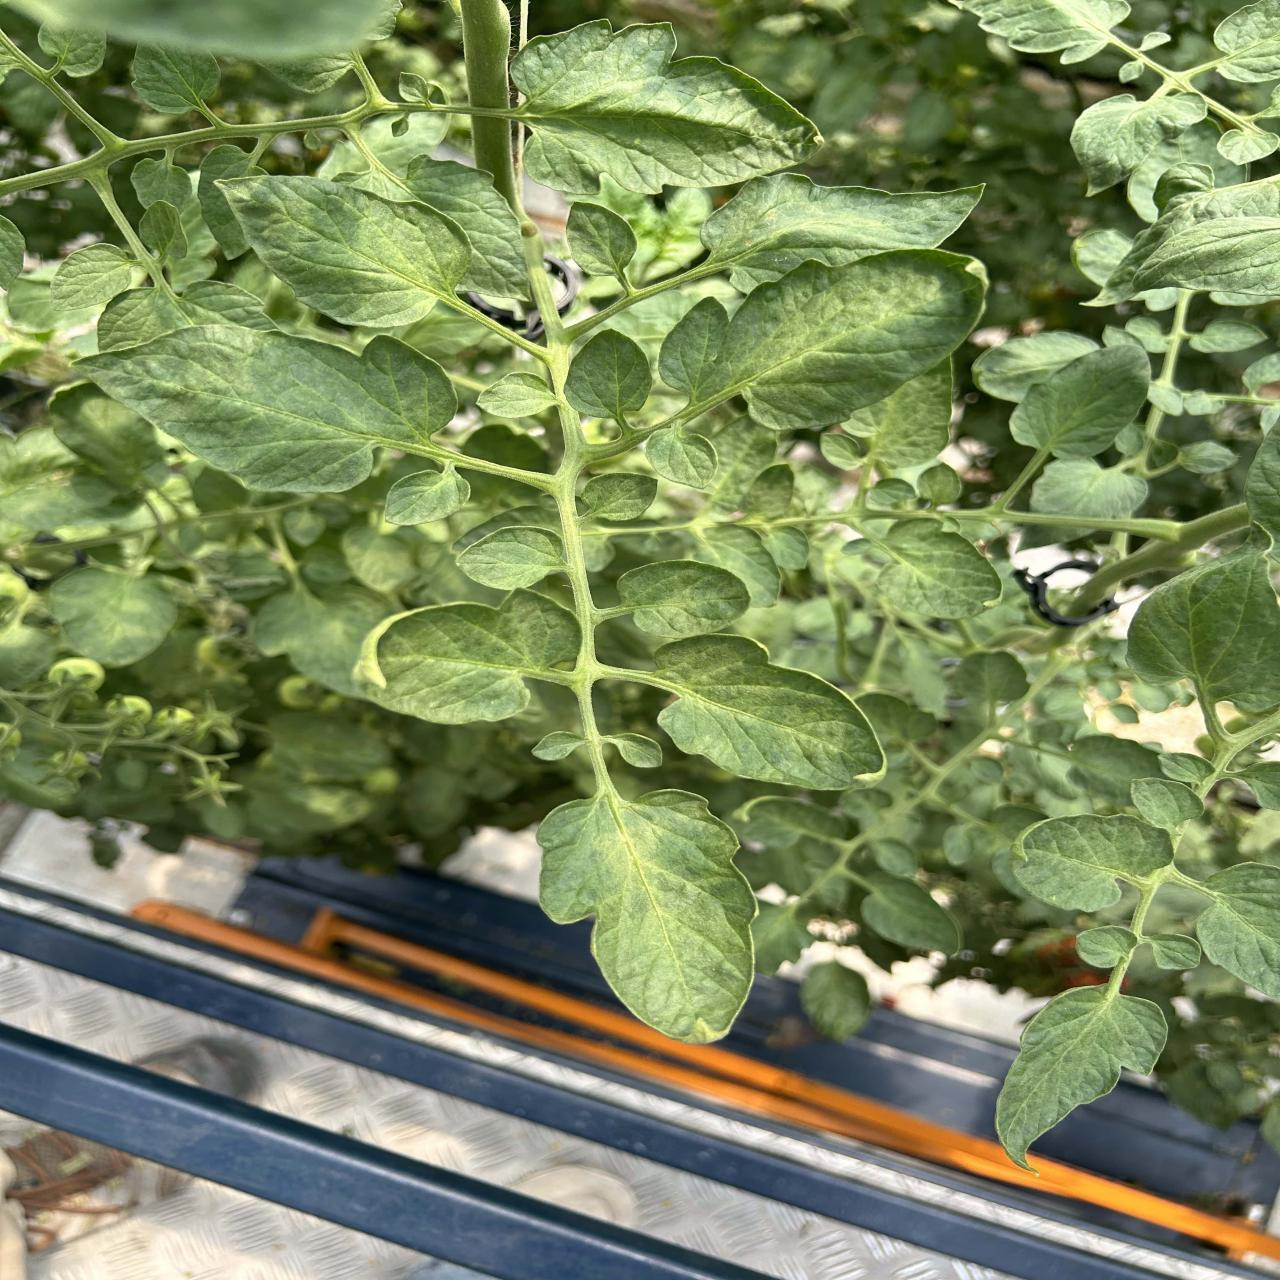Rugose leaf: (80, 324, 456, 492), (659, 250, 982, 429), (537, 791, 756, 1042), (510, 21, 822, 195), (220, 177, 481, 331), (655, 635, 881, 789), (701, 173, 981, 293), (316, 155, 529, 300), (354, 590, 580, 724), (996, 986, 1167, 1163), (1128, 551, 1280, 724), (1088, 177, 1280, 309), (1070, 90, 1246, 220), (1010, 343, 1150, 457), (1013, 815, 1173, 911), (819, 359, 953, 470), (872, 519, 1001, 619), (97, 281, 274, 353), (1190, 862, 1280, 998), (953, 0, 1130, 63), (617, 560, 750, 640), (565, 331, 652, 422), (198, 144, 260, 259), (456, 525, 565, 590), (696, 524, 779, 606), (708, 414, 777, 510), (52, 244, 148, 313), (132, 45, 220, 114), (567, 202, 636, 282), (1214, 0, 1280, 83), (384, 462, 470, 525), (644, 420, 717, 490), (1131, 777, 1204, 838), (577, 472, 658, 522), (38, 25, 107, 79), (476, 372, 557, 417), (138, 200, 186, 266), (131, 158, 191, 210), (1076, 926, 1138, 968), (1157, 753, 1213, 796), (1217, 127, 1280, 164), (1145, 934, 1201, 971)
